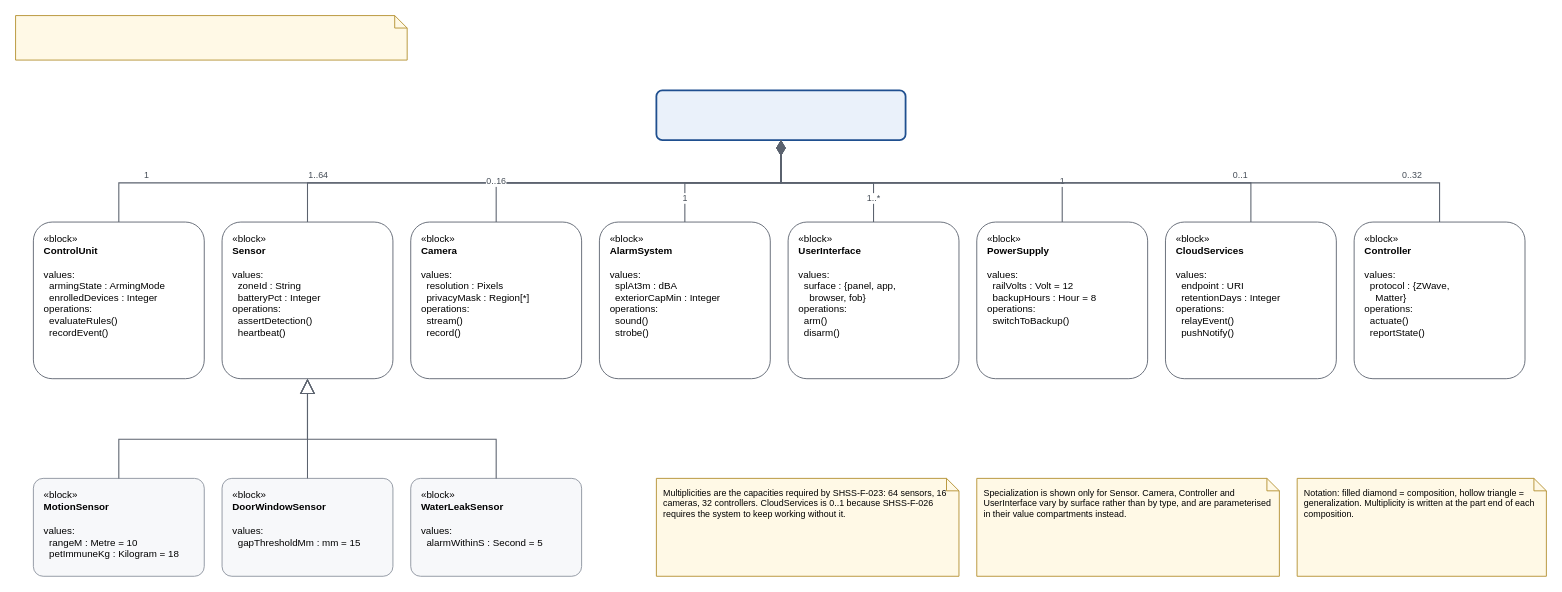
Image size: 1562x592. Some labels were removed from this diagram. The shapes that lost their labels are listed below. From the top down, each one's centre as x and y in pixels, then its label:
point 211,37: bdd [package] Smart Home Security System [Structure] Ty · v1.0 · 5 November 2026
point 780,115: «block» SmartHomeSecuritySystem
